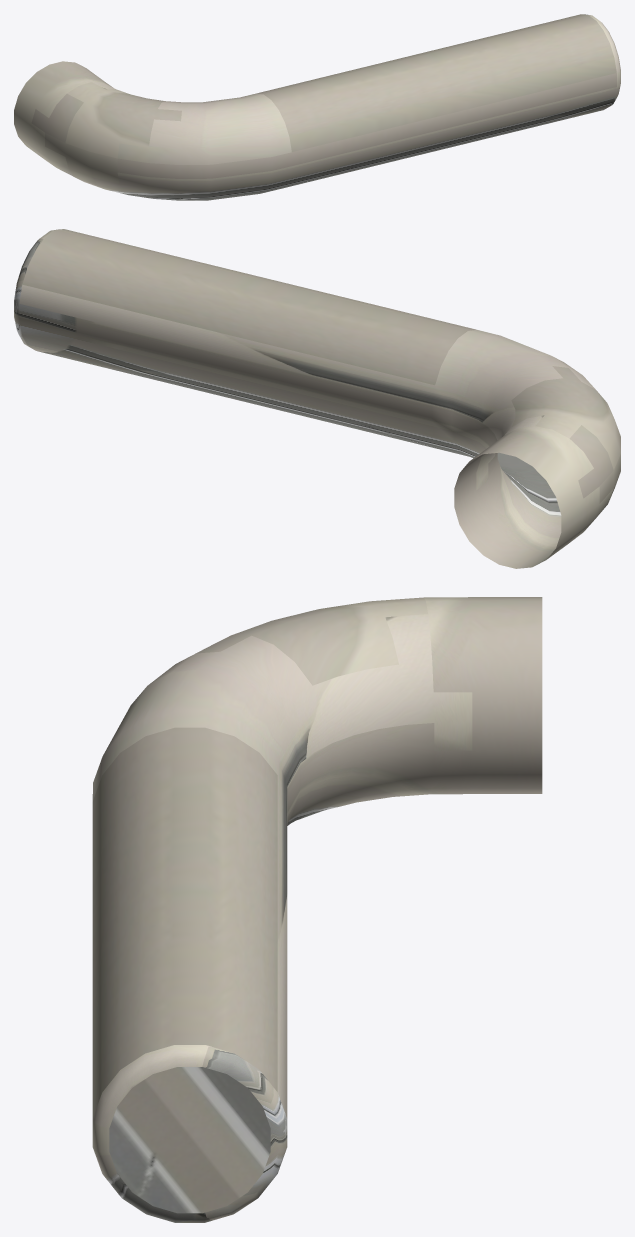
File: Handle.fbx
3 views of the same model, one above another, from view 1: azimuth 30°, elevation 25°; view 2: azimuth 150°, elevation 25°; view 3: azimuth 270°, elevation 25° (orthographic). The views are drawn at different scales.
Parts seen in each view (by area): view 1: Handle.001; view 2: Handle.001; view 3: Handle.001.
Boxes of the visible parts, x1,y1,x2,y2 form: Handle.001: (14,14,620,200); Handle.001: (14,229,620,568); Handle.001: (92,597,542,1222).
Size of the model in its own units: 14.51 by 2.46 by 5.68.
Materials: 1 (1 with a texture image).
